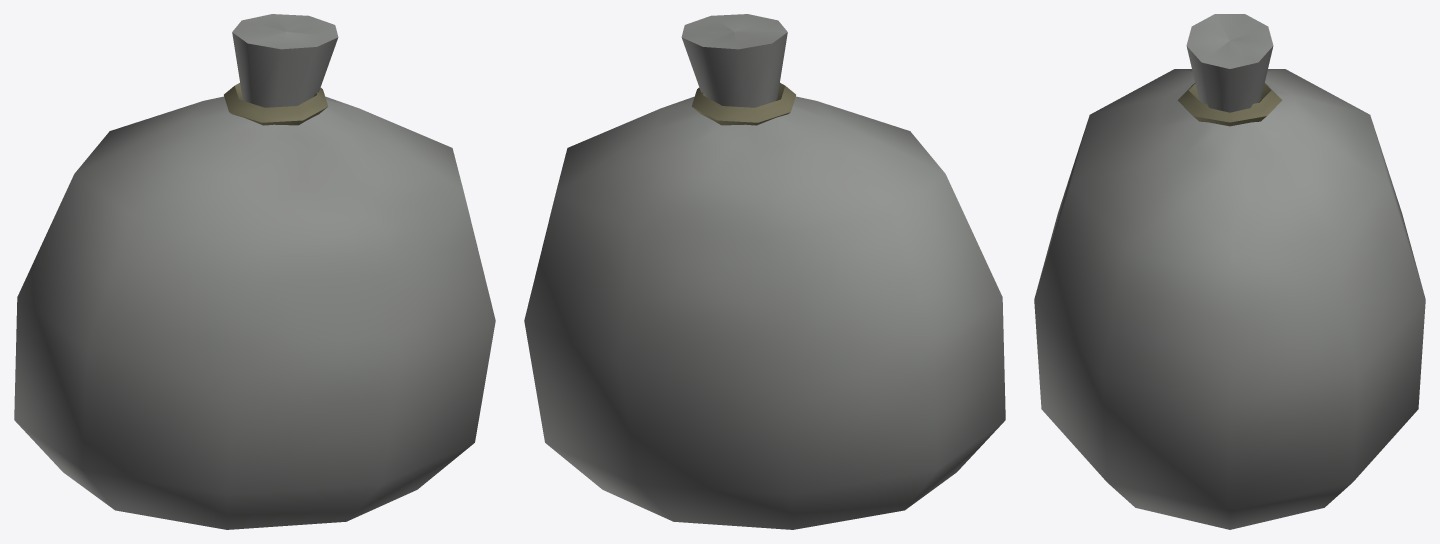
File: laundry_bag.fbx
3 renders of one model, left to right at view 1: azimuth 30°, elevation 25°; view 2: azimuth 150°, elevation 25°; view 3: azimuth 270°, elevation 25°, orthographic. The views are drawn at different scales.
Parts seen in each view (by area): view 1: laundry_bag; view 2: laundry_bag; view 3: laundry_bag.
Boxes of the visible parts, x1,y1,x2,y2 form: laundry_bag: (14,14,495,529); laundry_bag: (524,14,1005,529); laundry_bag: (1034,14,1425,529).
Size of the model in its own units: 0.5261 by 0.5241 by 0.4254.
Materials: 1 (1 with a texture image).
